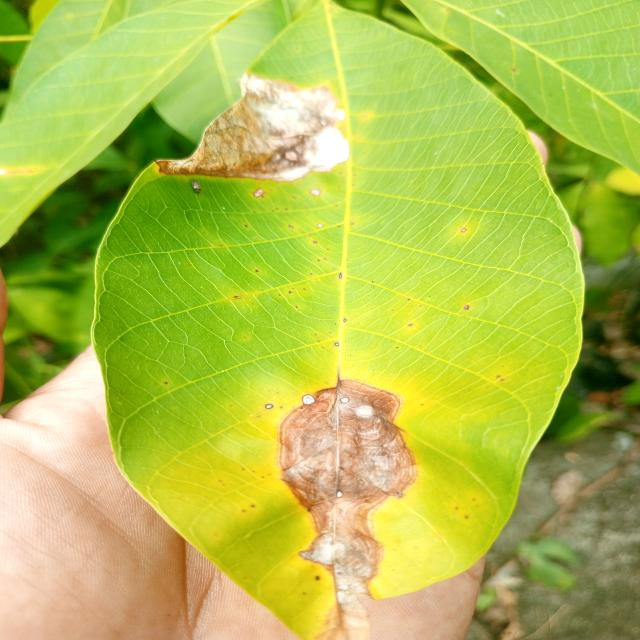Colletotrichum: (301, 394, 316, 405), (340, 396, 350, 404), (265, 404, 273, 409), (288, 225, 294, 229), (317, 224, 323, 228), (343, 318, 347, 322), (312, 240, 316, 244), (461, 229, 466, 232), (335, 343, 339, 346), (409, 324, 412, 326), (234, 296, 238, 297), (256, 270, 258, 272), (289, 292, 291, 294), (324, 259, 326, 260)
Leaf-Blight: (278, 377, 418, 640), (154, 71, 350, 182)
